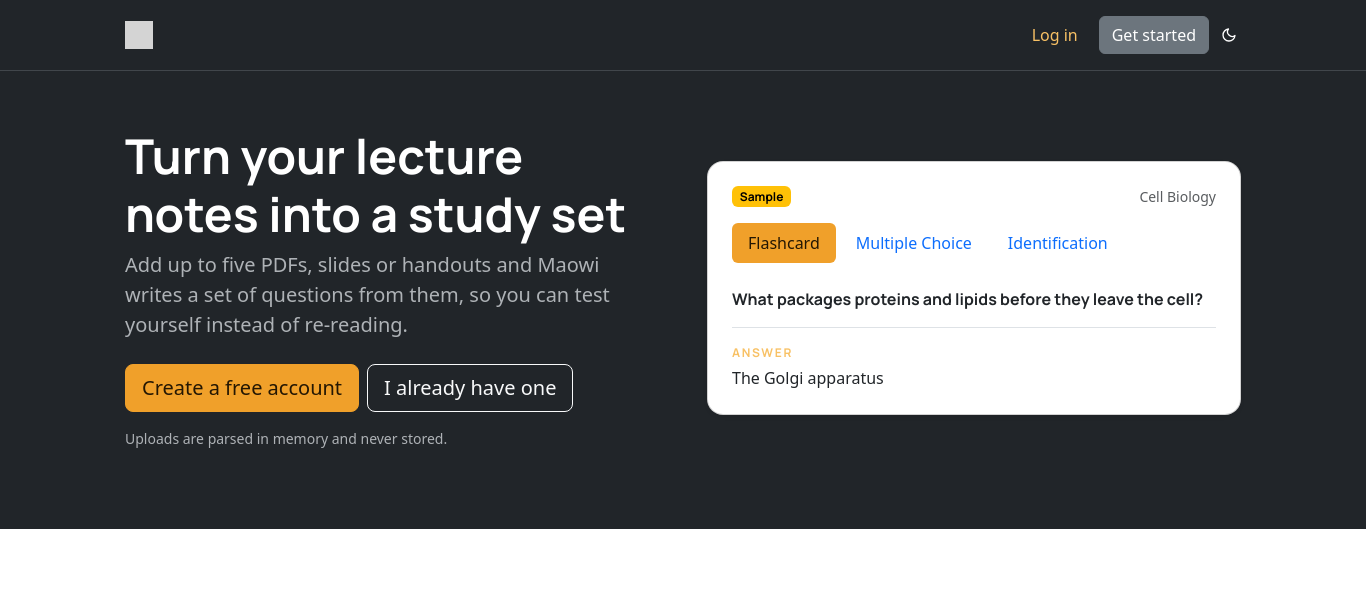
it: landing page › swaps the sample question when another study mode is selected
This screenshot has width=1366, height=600.
Expected: the text "Ribosome" is not shown
What coordinates should you click on to do the following:
click the tab "Multiple Choice"
I would click on:
 (914, 243)
Its box is [840,223,988,263].
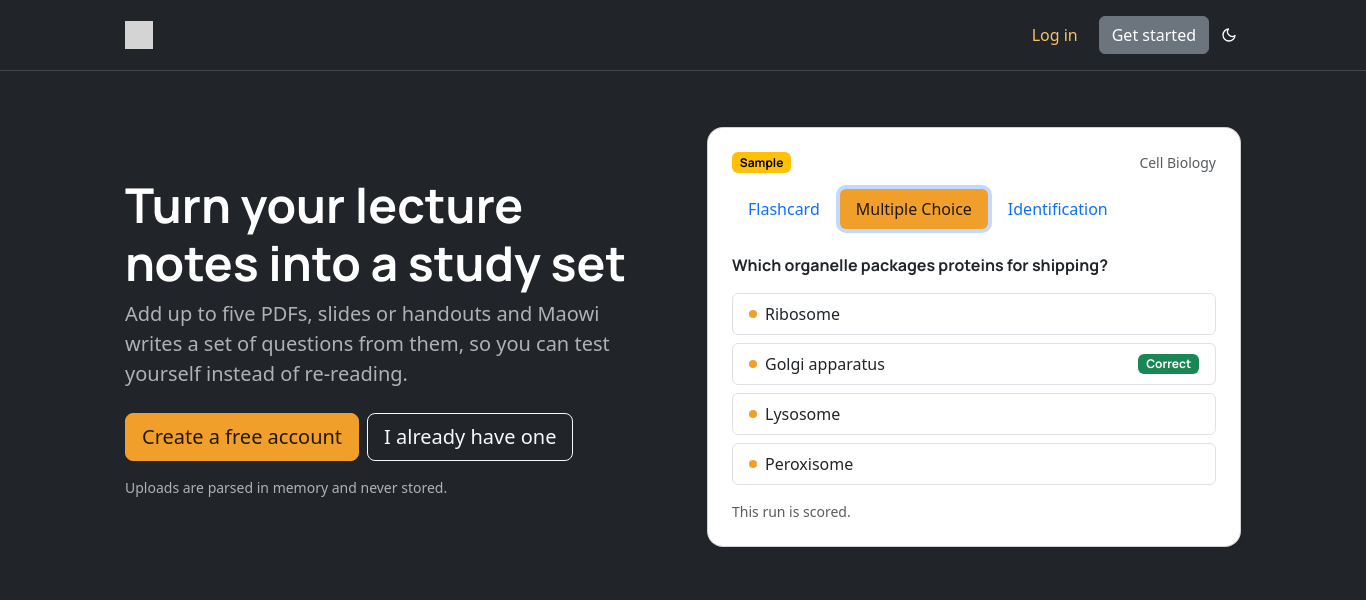
Expected: the text "Ribosome" is shown, [765,302,840,326]
